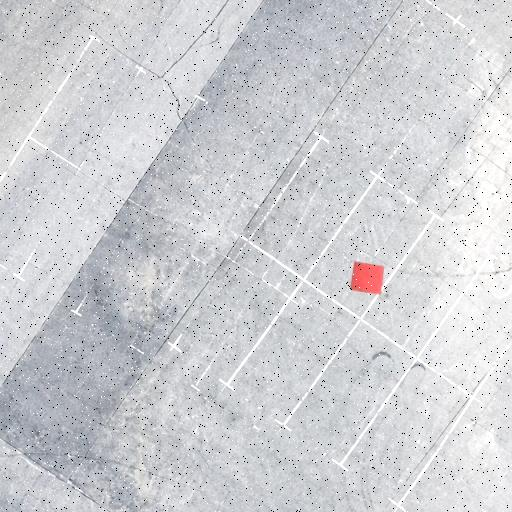RED_SQUARE: (350, 261, 384, 295)
